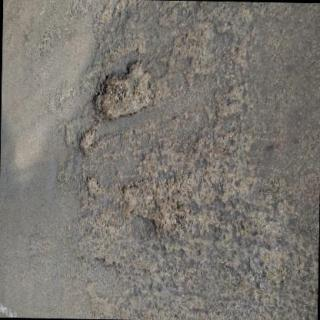pothole: (124, 172, 190, 245), (94, 57, 163, 122), (78, 125, 100, 156), (85, 176, 104, 200)
